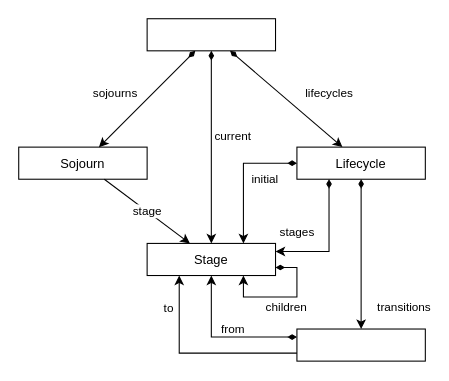
Image size: 449x381. Some labels were removed from this diagram. The shapes that lost their labels are listed below. From the top down, each one's centre as x and y in pixels, then its label:
[211,34]: Staged
[360,344]: Transition
